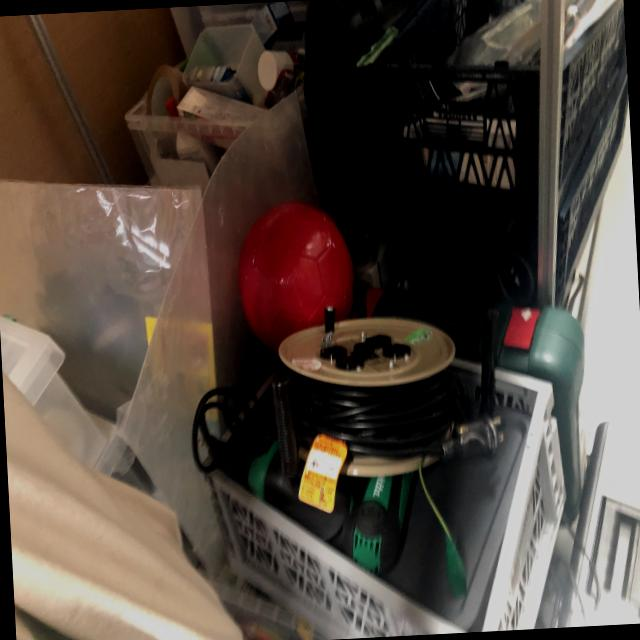red_ball: (235, 200, 358, 358)
